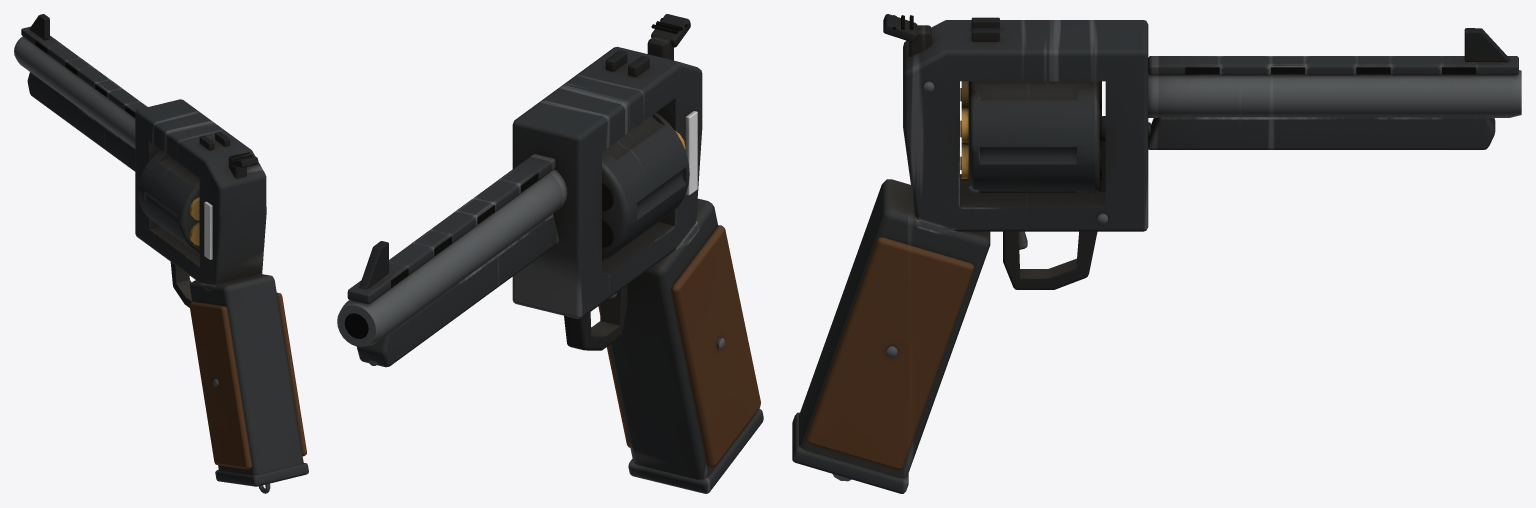
Rendered from weapon_revolver.gltf.
3 views of the same model, side by side, from view 1: azimuth 30°, elevation 25°; view 2: azimuth 150°, elevation 25°; view 3: azimuth 270°, elevation 25° (orthographic). The views are drawn at different scales.
Visible parts, largest first — view 1: Body, Cylinder, Hammer, Clip; view 2: Body, Cylinder, Hammer; view 3: Body, Cylinder, Hammer, Clip.
Boxes of the visible parts, x1,y1,x2,y2 form: Body: (14,14,308,493); Cylinder: (138,150,199,253); Hammer: (228,152,258,178); Clip: (189,197,199,245); Body: (337,46,763,493); Cylinder: (602,112,689,261); Hammer: (647,14,690,60); Body: (792,17,1521,493); Cylinder: (968,81,1101,192); Hammer: (883,14,931,56); Clip: (960,81,968,182).
Bounding box in the file's own units: 0.045 × 0.1789 × 0.2559.
Materials: 8 (8 with a texture image).
